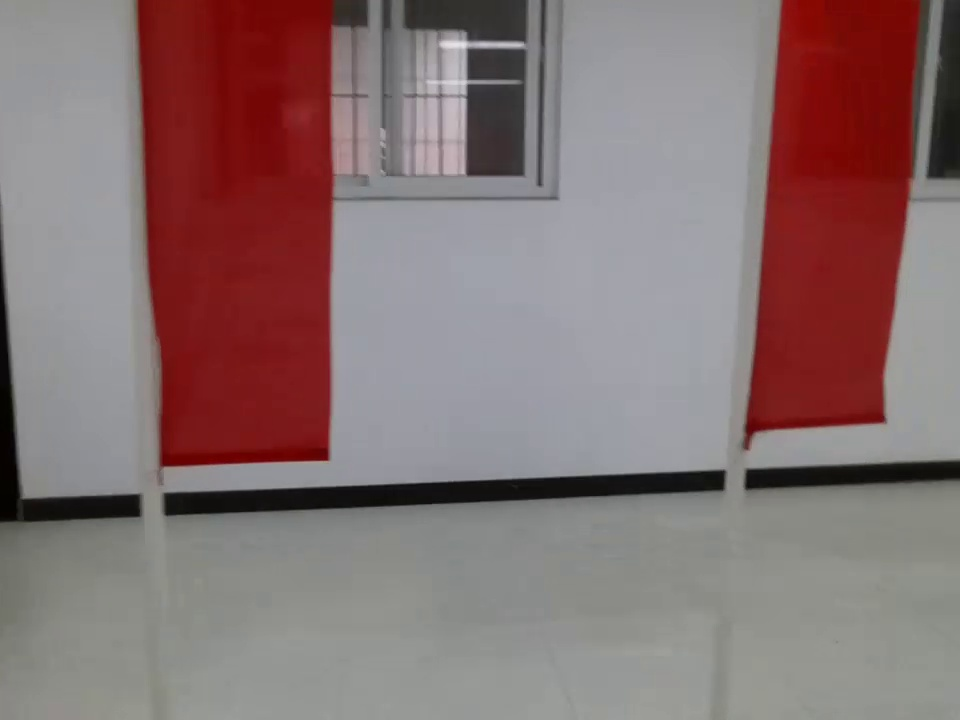qi: (131, 5, 340, 539), (729, 1, 929, 463)
